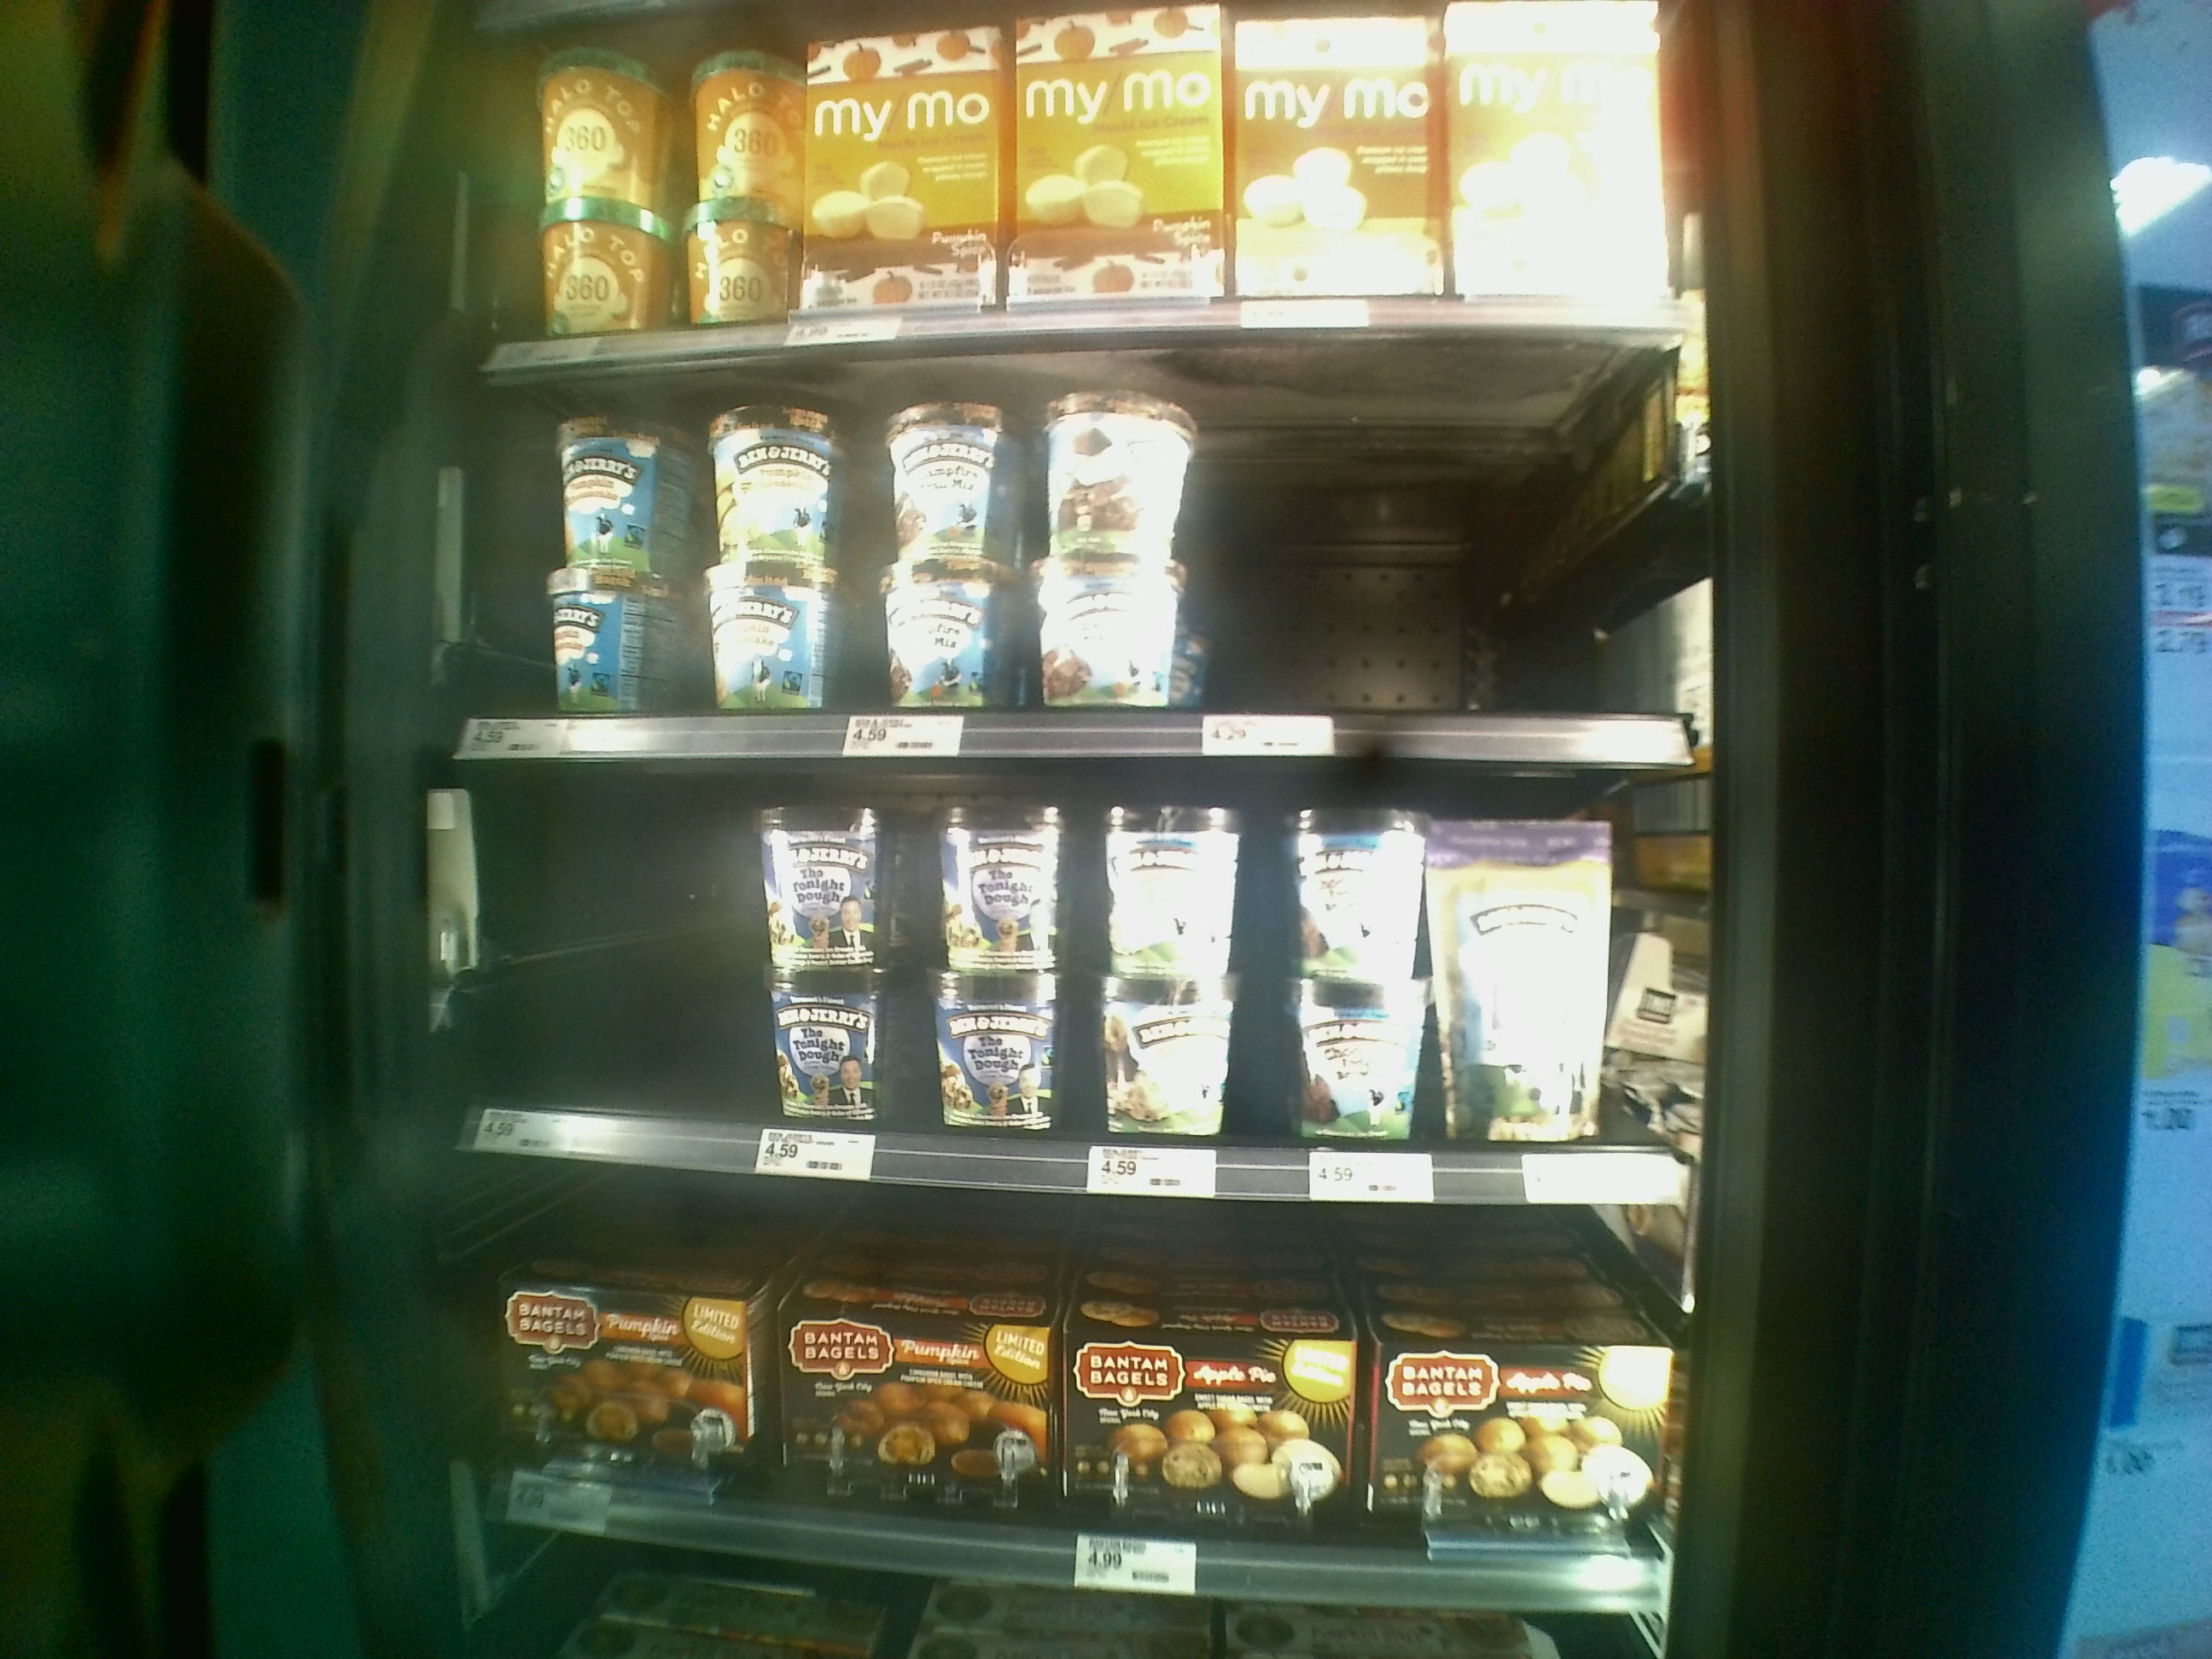shelf: (409, 730, 1710, 1213), (397, 1138, 1689, 1608), (409, 342, 1730, 779)
